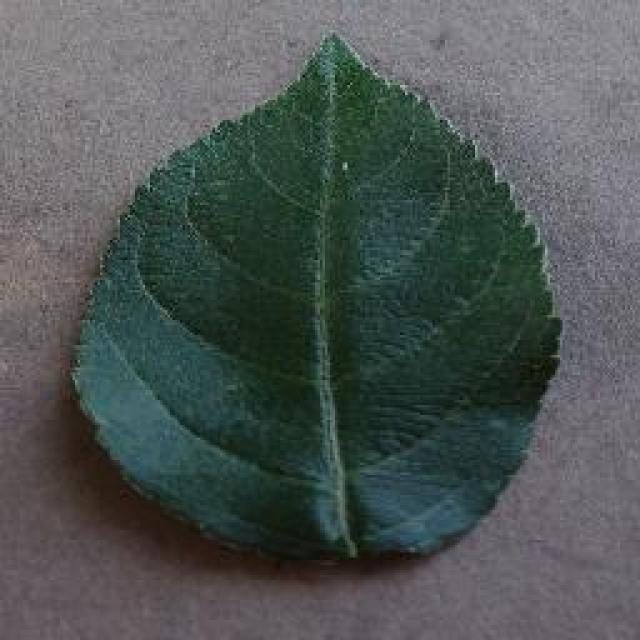apple healthy: (65, 28, 563, 562)
